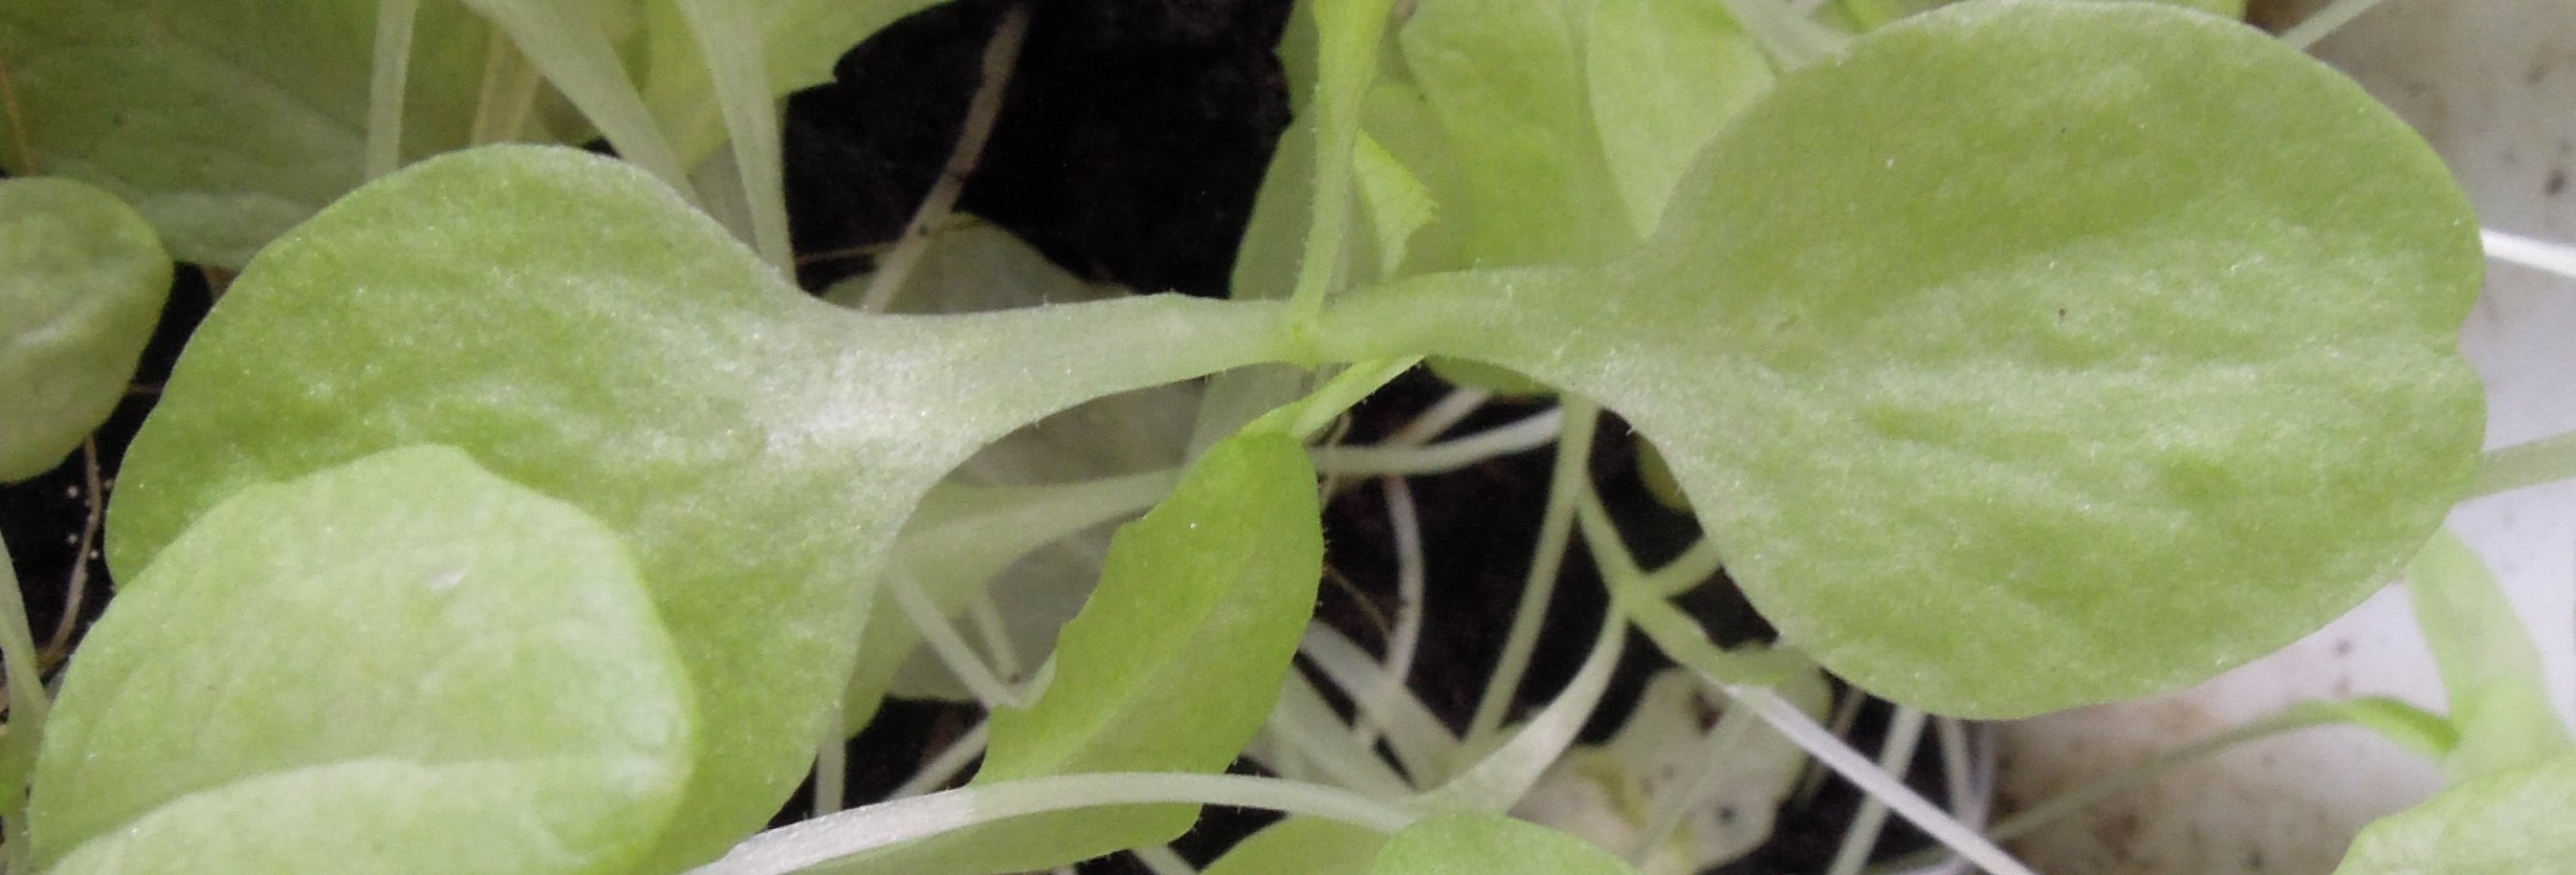week2: (89, 123, 1421, 806), (1426, 18, 2560, 729)
